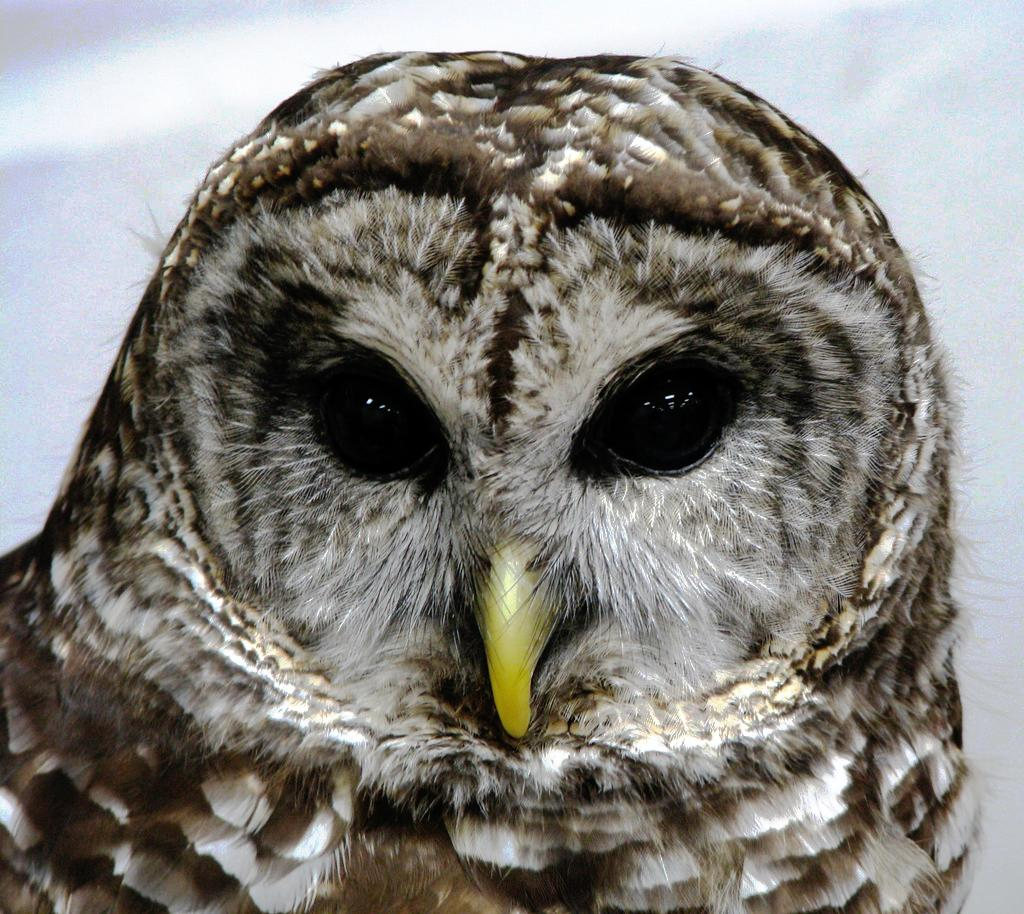Owl: (0, 38, 1021, 914)
